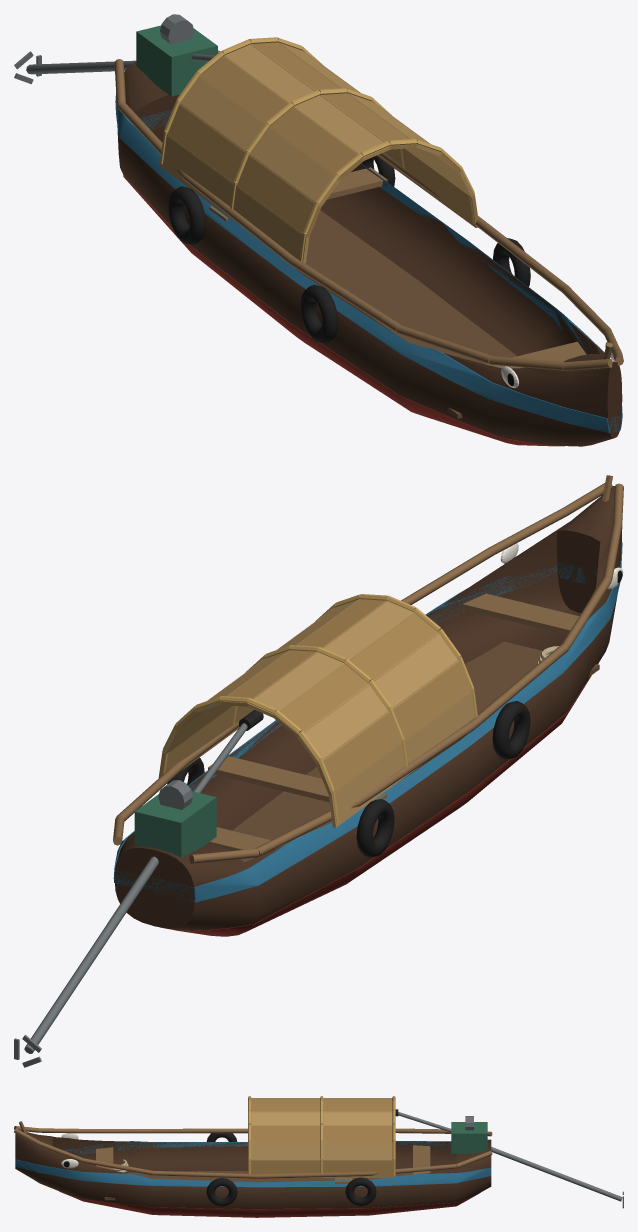
The model's file is sampan.glb.
The picture shows the model from 3 angles, top to bottom: view 1: azimuth 30°, elevation 25°; view 2: azimuth 150°, elevation 25°; view 3: azimuth 270°, elevation 25°; orthographic projection. The views are drawn at different scales.
Visible parts, largest first — view 1: hull_0, band_1, floor_3, mat_36, mat2_37, mat2_35, mat_34, mat_38, engine_69, bottom_2, mat2_33, mat2_29 (+16 smaller); view 2: hull_0, band_1, mat_36, mat2_37, floor_3, mat2_35, mat_34, mat_38, engine_69, bottom_2, mat2_33, wood_5 (+14 smaller); view 3: hull_0, band_1, bottom_2, mat_30, mat2_31, mat2_29, mat_32, mat2_33, engine_69, floor_3, steel_71, mat_34 (+16 smaller).
Part boxes in pixels (<box>): hull_0: <box>117,61,622,446</box>; band_1: <box>115,93,622,433</box>; floor_3: <box>306,210,516,418</box>; mat_36: <box>179,76,340,207</box>; mat2_37: <box>166,103,321,237</box>; mat2_35: <box>199,55,363,180</box>; mat_34: <box>223,44,391,161</box>; mat_38: <box>159,134,309,263</box>; engine_69: <box>136,25,217,96</box>; bottom_2: <box>123,175,564,446</box>; mat2_33: <box>250,42,418,149</box>; mat2_29: <box>377,148,478,228</box>; hull_0: <box>114,486,622,930</box>; band_1: <box>113,542,622,902</box>; mat_36: <box>297,633,458,764</box>; mat2_37: <box>316,660,471,795</box>; floor_3: <box>232,641,599,862</box>; mat2_35: <box>273,612,439,736</box>; mat_34: <box>246,600,414,717</box>; mat_38: <box>328,691,474,827</box>; engine_69: <box>134,791,216,857</box>; bottom_2: <box>160,675,591,936</box>; mat2_33: <box>219,599,387,706</box>; wood_5: <box>208,756,386,802</box>; hull_0: <box>15,1130,491,1208</box>; band_1: <box>15,1141,491,1187</box>; bottom_2: <box>59,1191,480,1217</box>; mat_30: <box>248,1142,395,1160</box>; mat2_31: <box>248,1125,392,1142</box>; mat2_29: <box>248,1160,395,1177</box>; mat_32: <box>248,1111,392,1125</box>; mat2_33: <box>248,1102,392,1112</box>; engine_69: <box>451,1122,487,1153</box>; floor_3: <box>104,1171,412,1200</box>; steel_71: <box>491,1147,622,1201</box>; mat_34: <box>248,1098,392,1102</box>.
Bounding box in the file's own units: 1.43 × 1.36 × 7.02.
